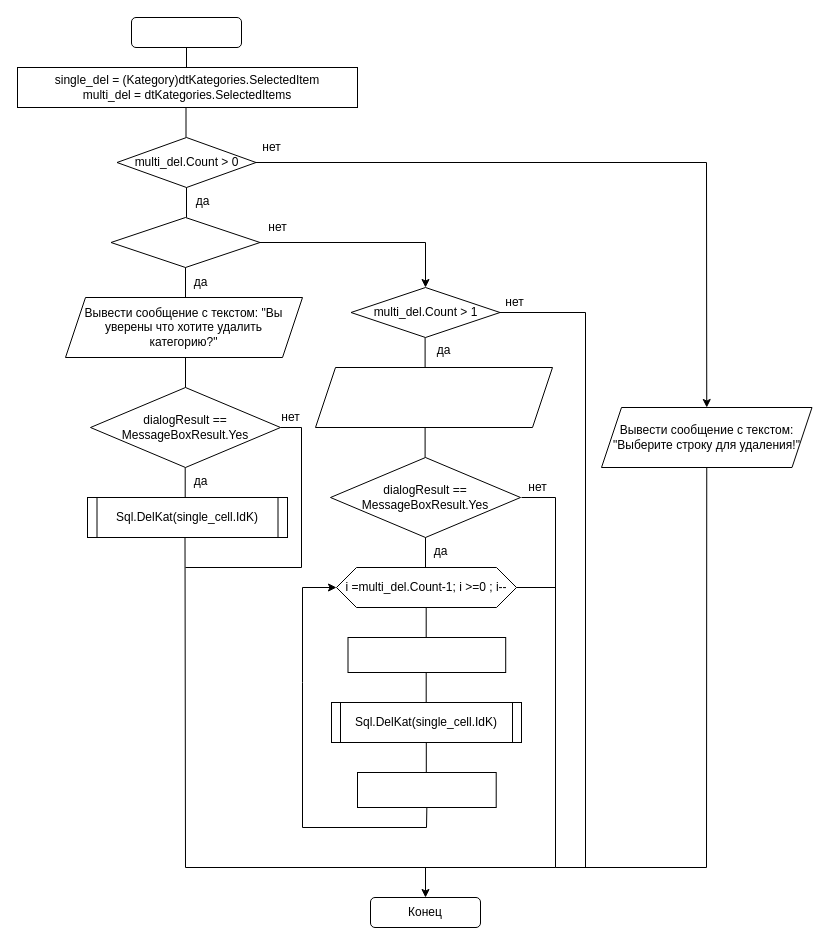
Image size: 830x945. Some labels were removed from this diagram. The centre of each missing label's shape, as x and y in pixels:
elem = (Kategory)multi_del[i]: point 426,654
kategories.Remove( (Kategory)multi_del[i]): point 426,790
multi_del.Count == 1: point 185,242
Вывести сообщение с текстом: "Вы уверены что хотите удалить категории?": point 433,397
Начало: point 186,32
